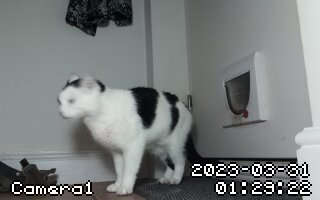bad: (58, 72, 203, 195)
